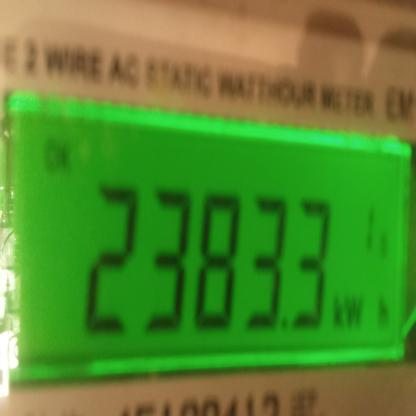.: (334, 295, 393, 332)
0: (279, 317, 289, 330)
3: (79, 178, 139, 335)
4: (146, 184, 194, 333), (246, 193, 289, 330), (294, 199, 332, 329)
9: (194, 187, 241, 335)
